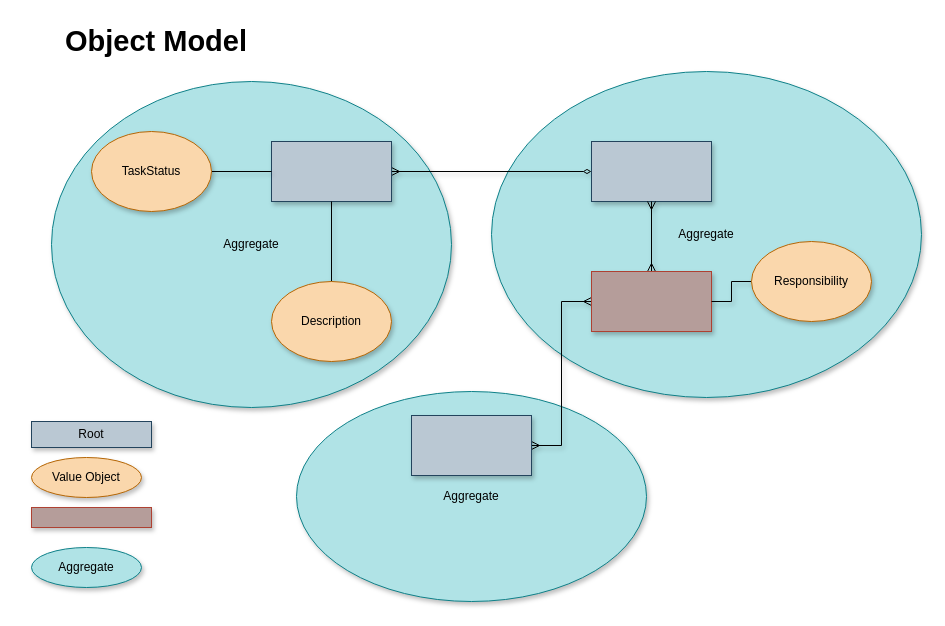
Image size: 945x626. Some labels were removed from this diagram. The shapes that lost their labels are listed below. From the top down, each one's centre as x and y in pixels, then its label:
pixel 332 172: Task
pixel 652 172: Project
pixel 652 302: Participant
pixel 472 446: User
pixel 92 518: Entity
